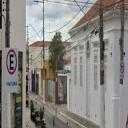NoVirarDireita: (120, 62, 124, 74)
speed_limit_20: (100, 60, 105, 72)
